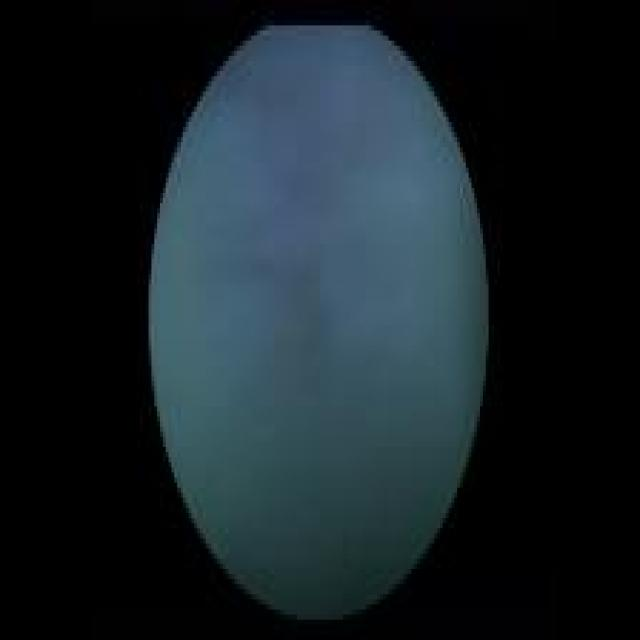blur: (148, 23, 489, 617)
color misalignment: (148, 24, 489, 617)
